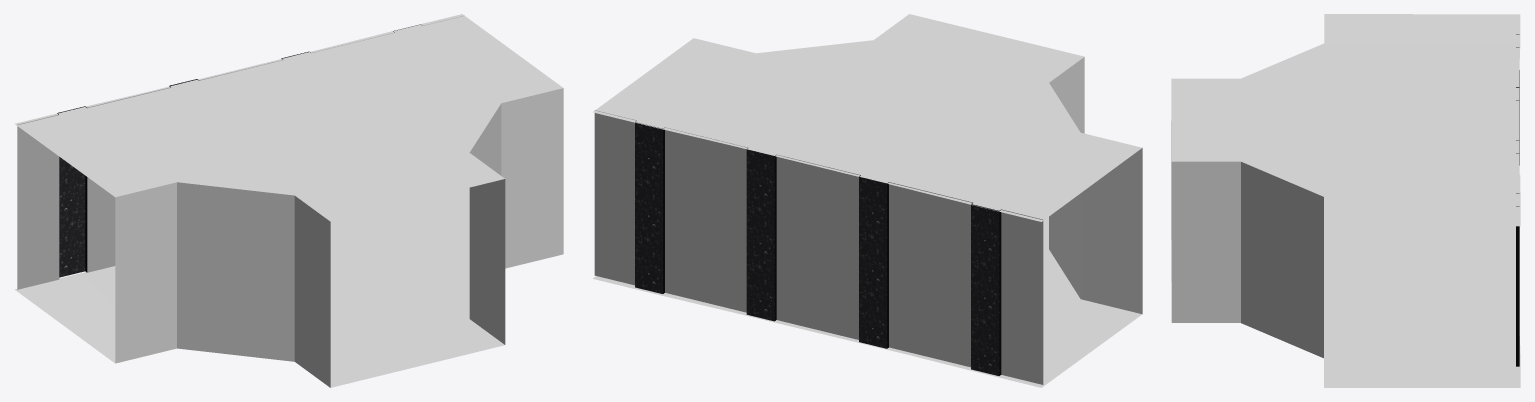
Rendered from room3.gltf.
The picture shows the model from 3 angles, left to right: view 1: azimuth 30°, elevation 25°; view 2: azimuth 150°, elevation 25°; view 3: azimuth 270°, elevation 25°; orthographic projection. The views are drawn at different scales.
Parts seen in each view (by area): view 1: Cube, site19_wall_cb_modern.001; view 2: Cube, site19_wall_cb_modern.001; view 3: Cube, site19_wall_cb_modern.001.
Boxes of the visible parts, x1,y1,x2,y2 form: Cube: (14, 14, 563, 387); site19_wall_cb_modern.001: (17, 15, 464, 289); Cube: (593, 14, 1142, 387); site19_wall_cb_modern.001: (594, 110, 1043, 384); Cube: (1171, 14, 1520, 387); site19_wall_cb_modern.001: (1516, 34, 1519, 366).
Size of the model in its own units: 20.48 by 7.27 by 14.23.
Materials: 15 (4 with a texture image).
